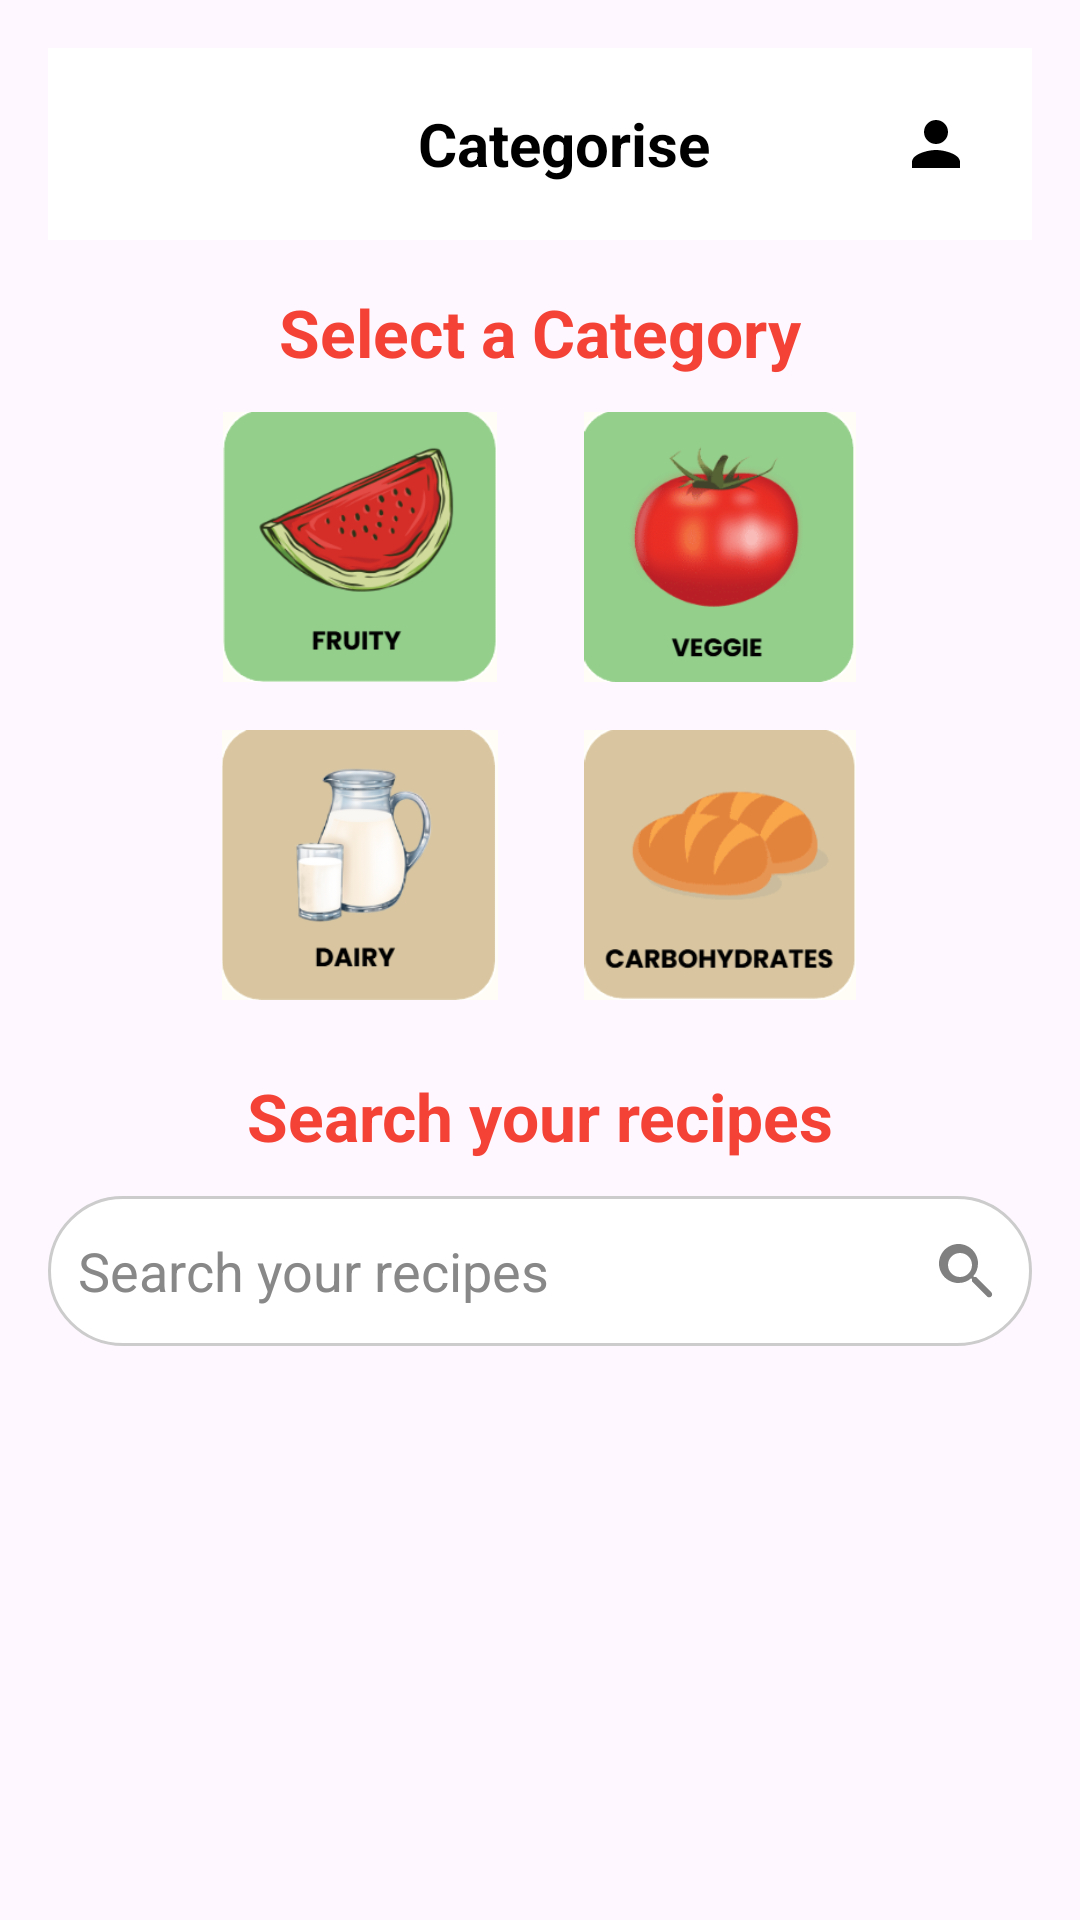

Icons on this 1080x1920 Android screen, each with its box as (x1, y1, x2, y2):
Profile: (912, 120, 960, 168)
